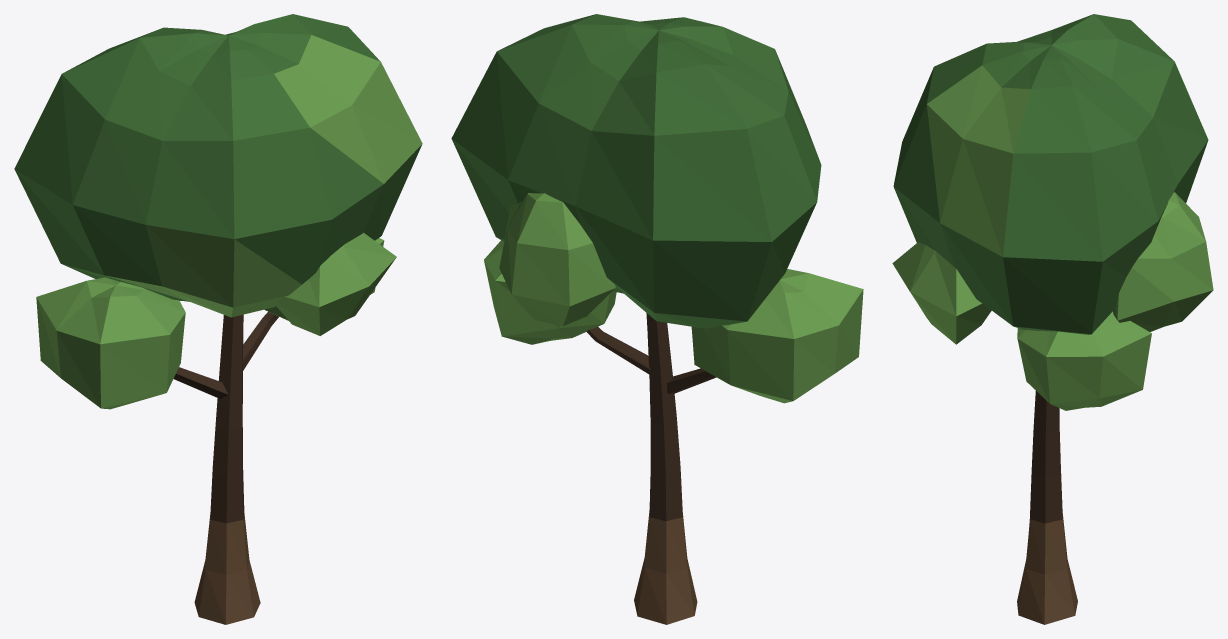
Rendered from oak.glb.
The picture shows the model from 3 angles, left to right: view 1: azimuth 30°, elevation 25°; view 2: azimuth 150°, elevation 25°; view 3: azimuth 270°, elevation 25°; orthographic projection. The views are drawn at different scales.
Parts seen in each view (by area): view 1: broadleaf-oak-mesh; view 2: broadleaf-oak-mesh; view 3: broadleaf-oak-mesh.
Part boxes in pixels (<box>): broadleaf-oak-mesh: <box>14,14,422,624</box>; broadleaf-oak-mesh: <box>451,14,863,624</box>; broadleaf-oak-mesh: <box>892,14,1213,624</box>.
Size of the model in its own units: 4.5 by 6.98 by 3.57.
